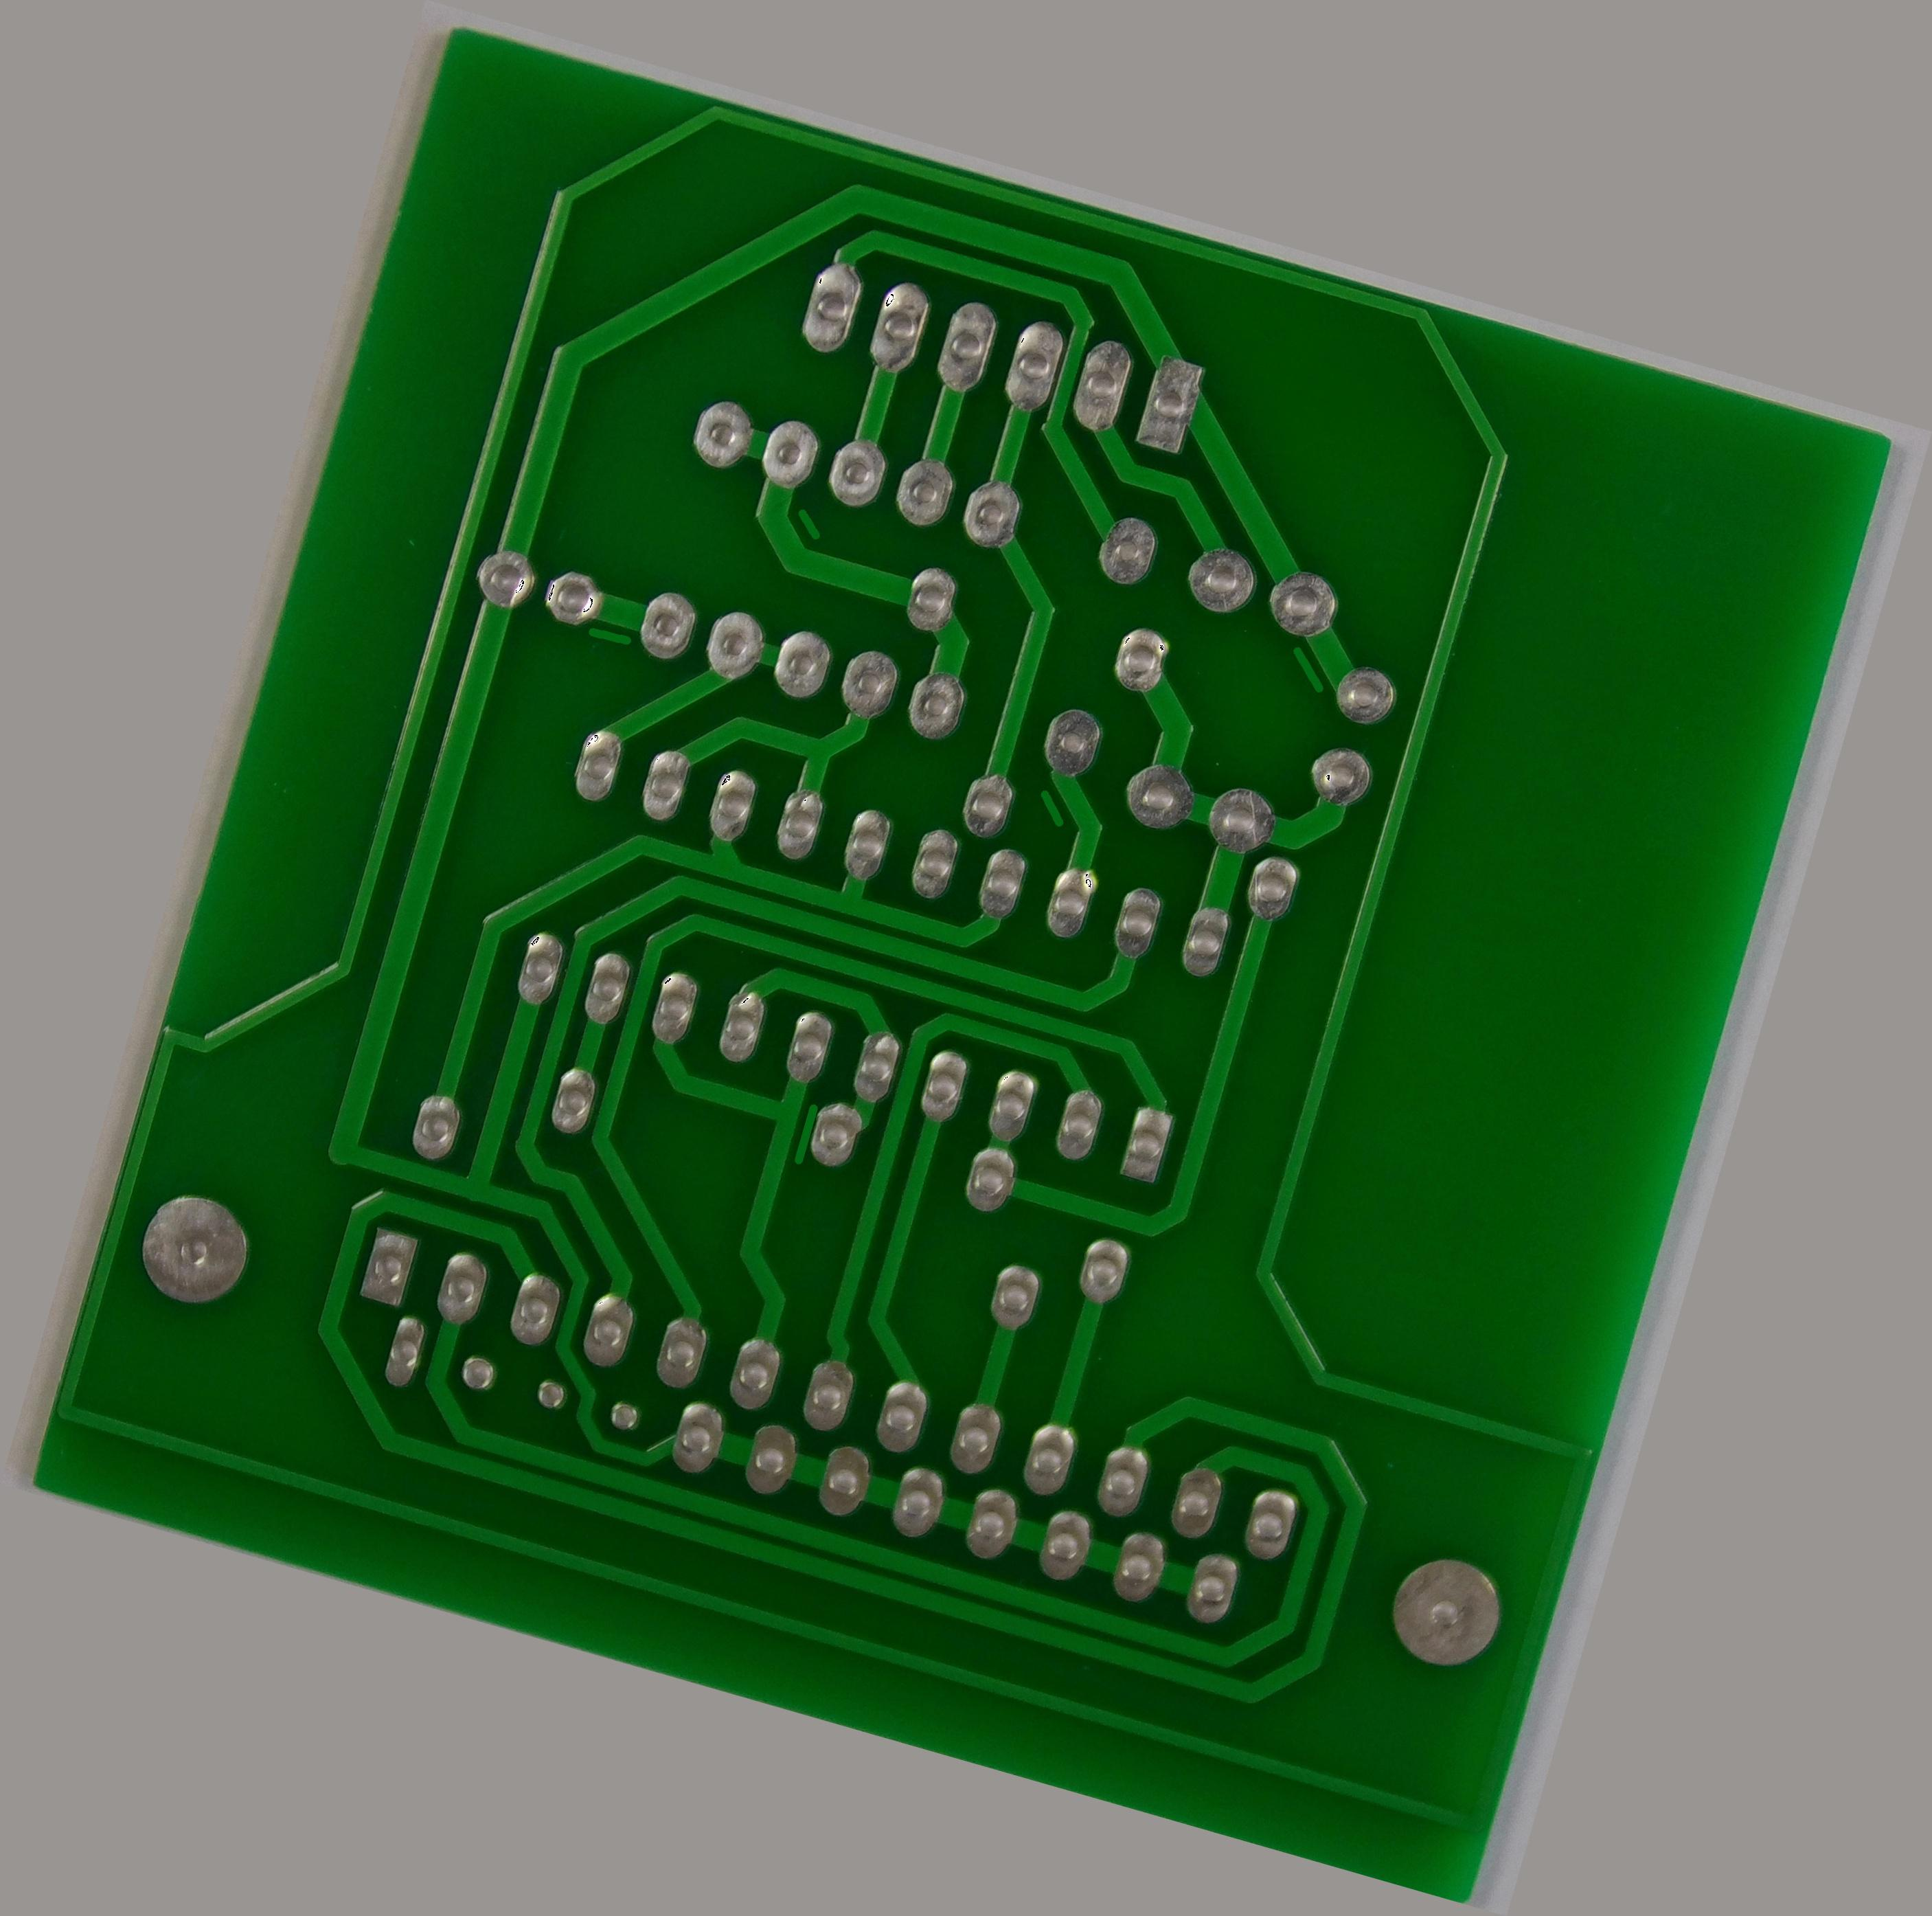spurious_copper: (772, 1086, 848, 1181), (1265, 630, 1344, 707), (565, 605, 644, 661), (1018, 776, 1081, 840), (777, 495, 830, 551)
